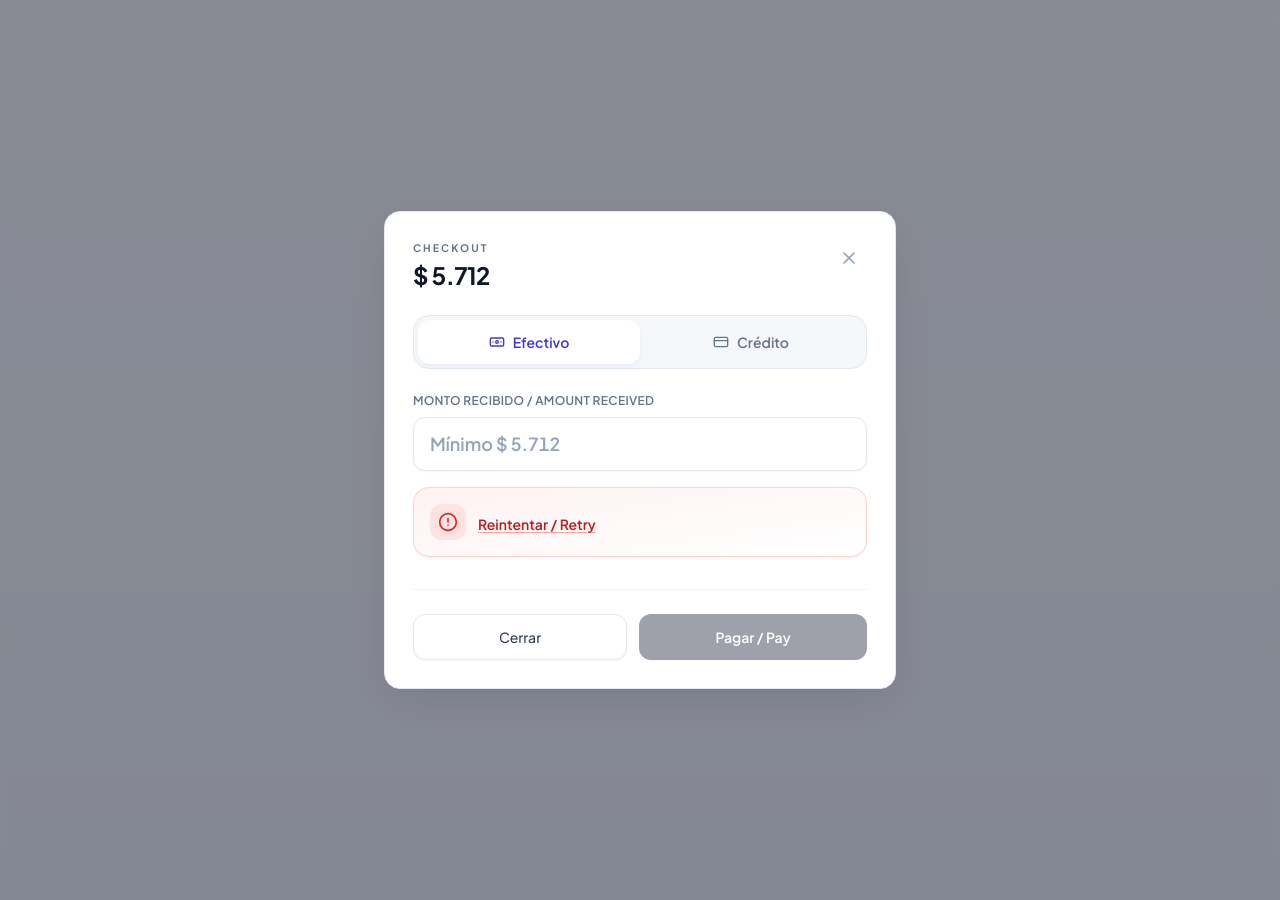
Scenario: CheckoutModal › should show 409 error with out-of-stock items
Step 1. Type "10000" into the number field labelled "Monto recibido / Amount received" → coordinates (640, 444), box [413, 417, 867, 471]
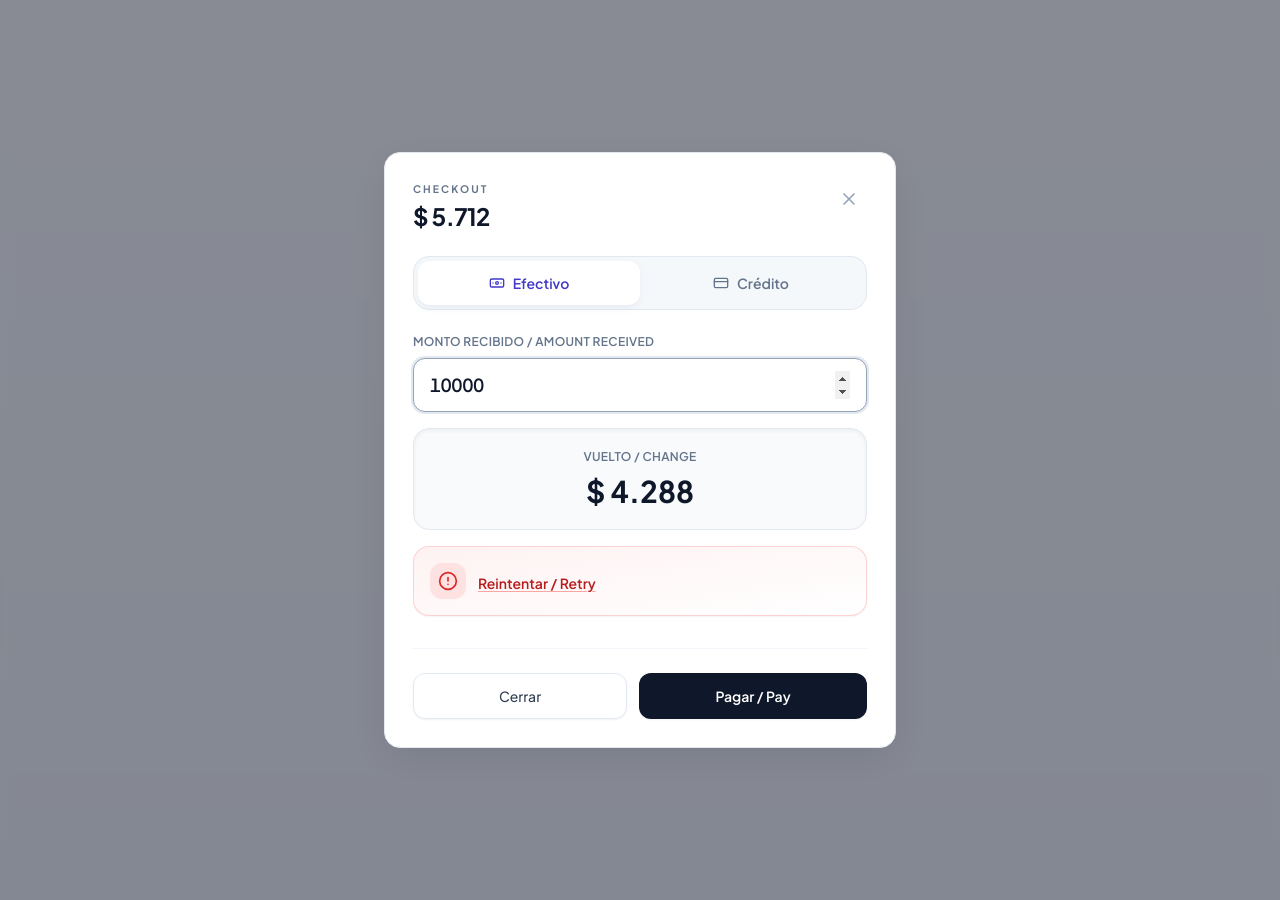
Step 2. Click the button "Pagar / Pay" → coordinates (753, 696), box [639, 673, 867, 719]
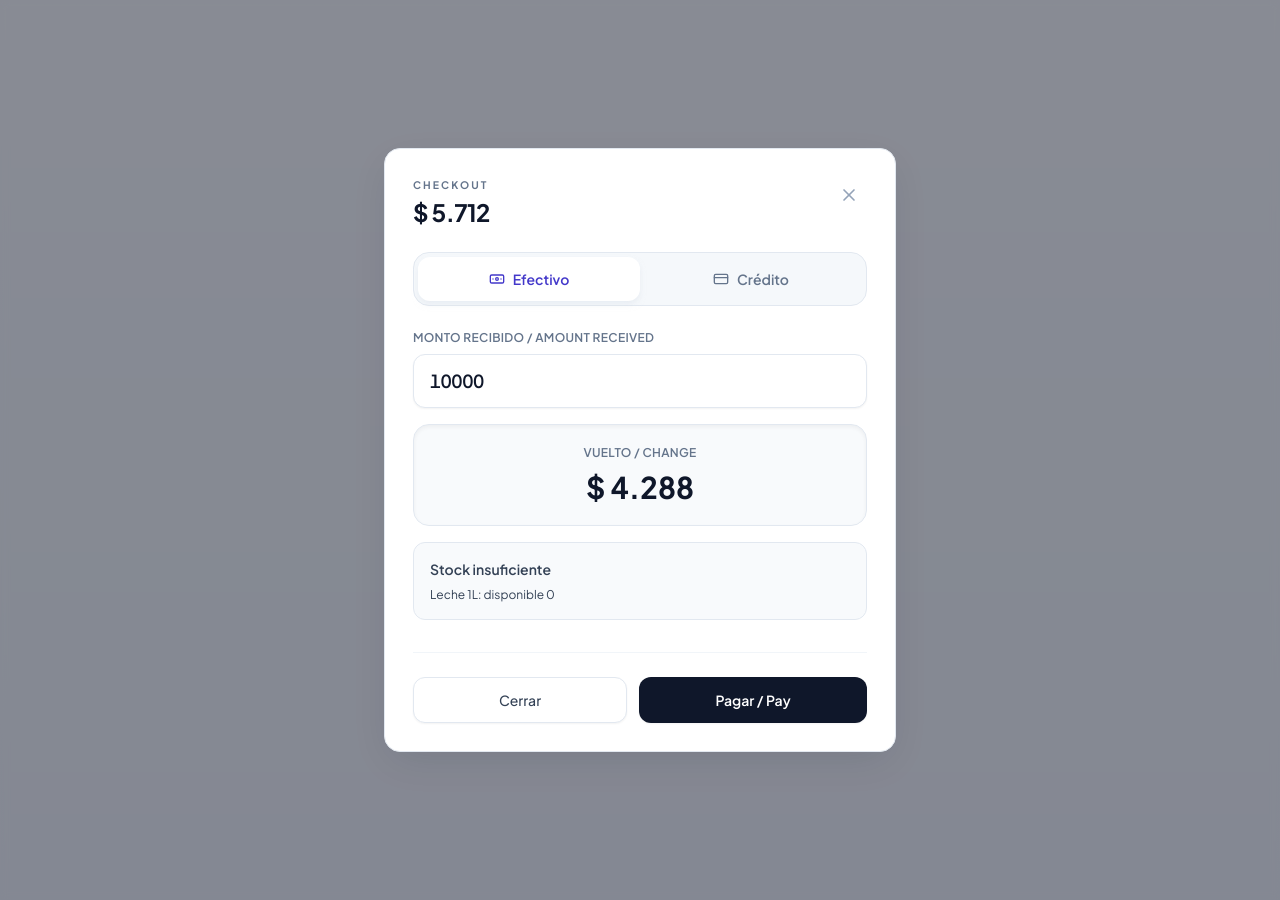
Result: the text "Stock insuficiente" is shown at [430, 560, 551, 578]
